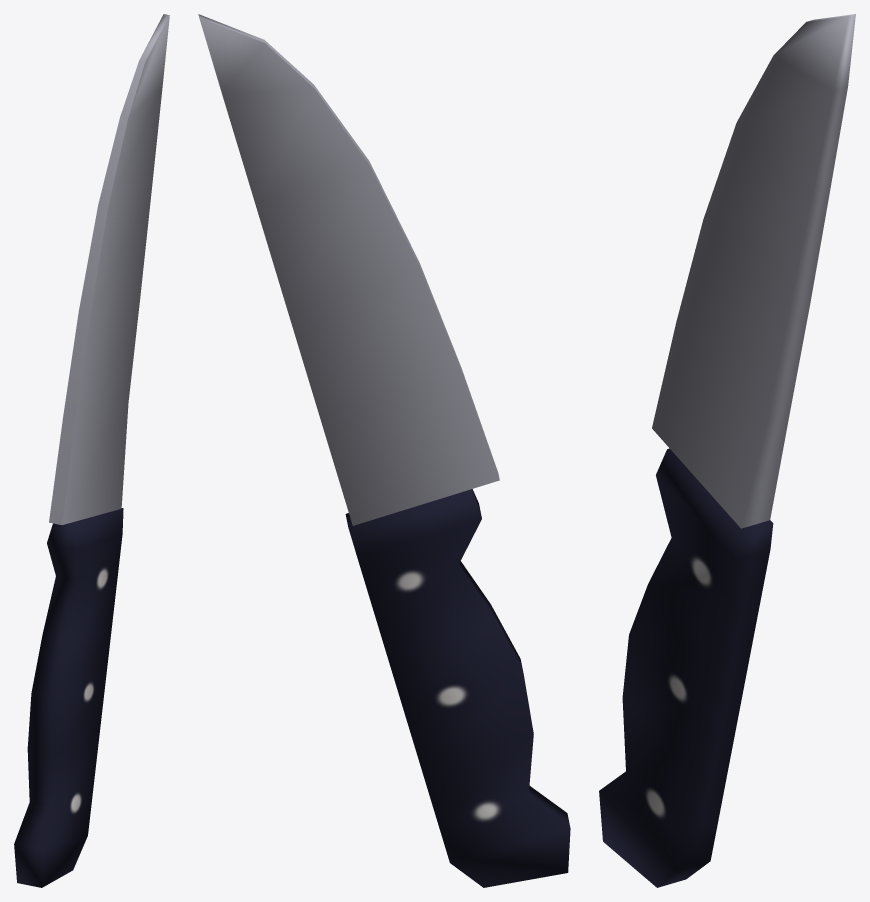
Rendered from cuchillo_a.fbx.
3 renders of one model, left to right at view 1: azimuth 30°, elevation 25°; view 2: azimuth 150°, elevation 25°; view 3: azimuth 270°, elevation 25°, orthographic. The views are drawn at different scales.
Visible parts, largest first — view 1: Cube; view 2: Cube; view 3: Cube.
Boxes of the visible parts, <box> form: Cube: <box>14,14,169,887</box>; Cube: <box>198,14,570,887</box>; Cube: <box>599,14,855,887</box>.
Bounding box in the file's own units: 22.93 × 69.49 × 16.52.
